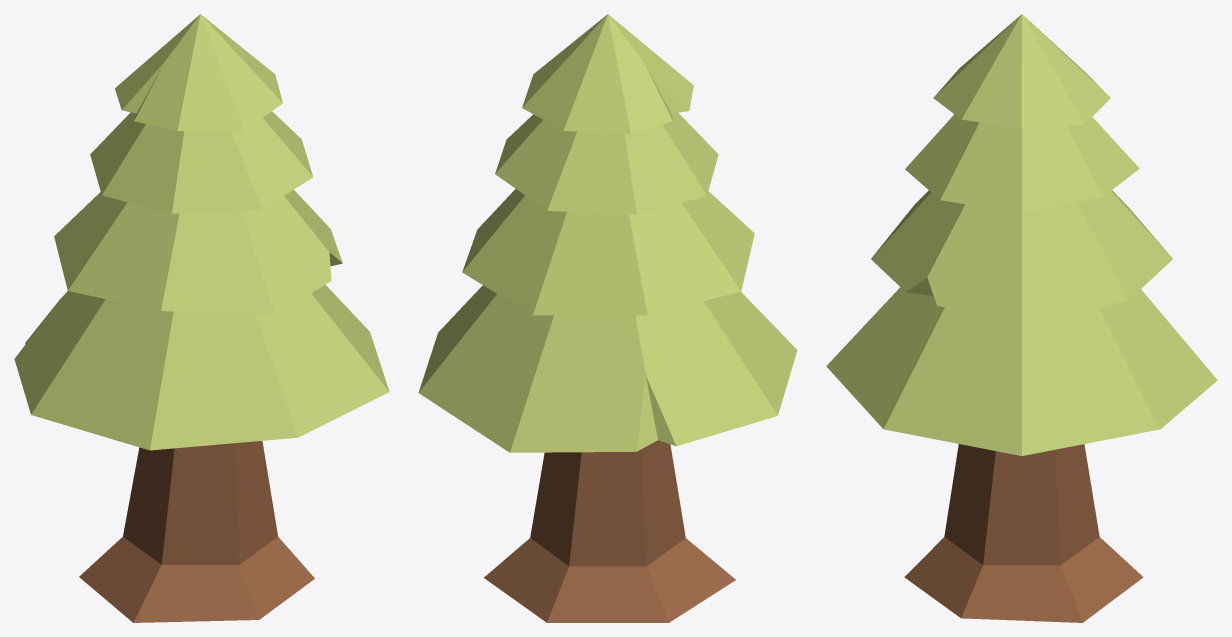
Rendered from treeSmall.fbx.
3 views of the same model, side by side, from view 1: azimuth 30°, elevation 25°; view 2: azimuth 150°, elevation 25°; view 3: azimuth 270°, elevation 25° (orthographic).
Visible parts, largest first — view 1: TreeSmall; view 2: TreeSmall; view 3: TreeSmall.
Boxes of the visible parts, x1=… form: TreeSmall: x1=14, y1=14, x2=389, y2=622; TreeSmall: x1=418, y1=14, x2=797, y2=622; TreeSmall: x1=826, y1=14, x2=1217, y2=622.
Bounding box in the file's own units: 182 × 289 × 182.
